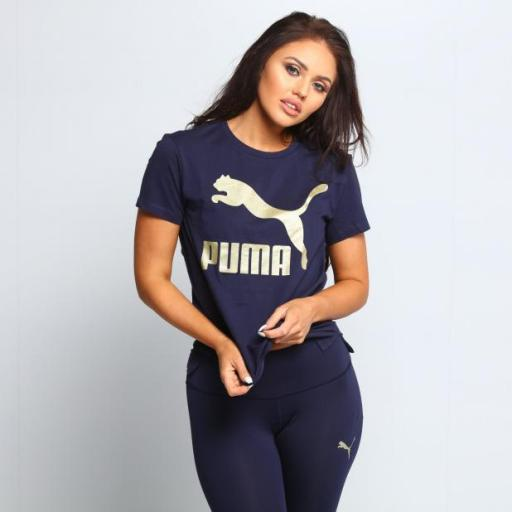Puma: (210, 171, 332, 273), (200, 237, 295, 279), (336, 432, 356, 460)
